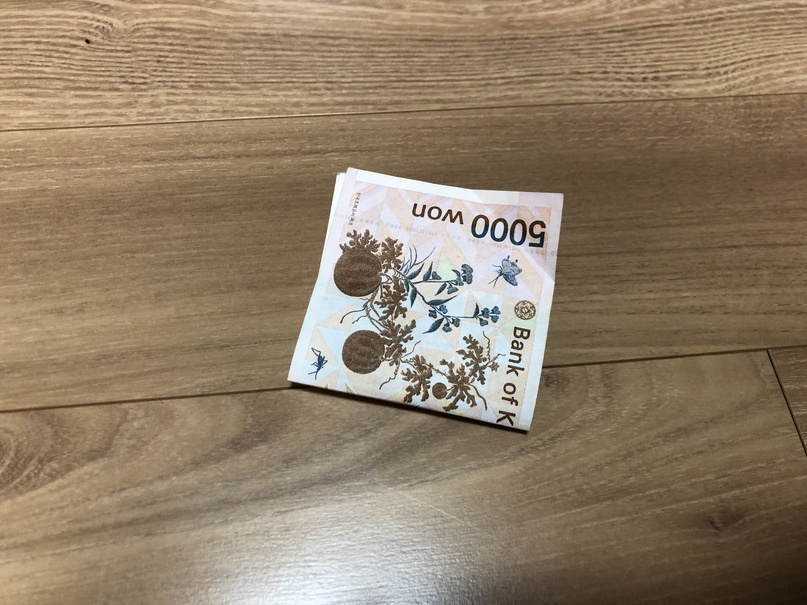5000won: (286, 167, 564, 434)
